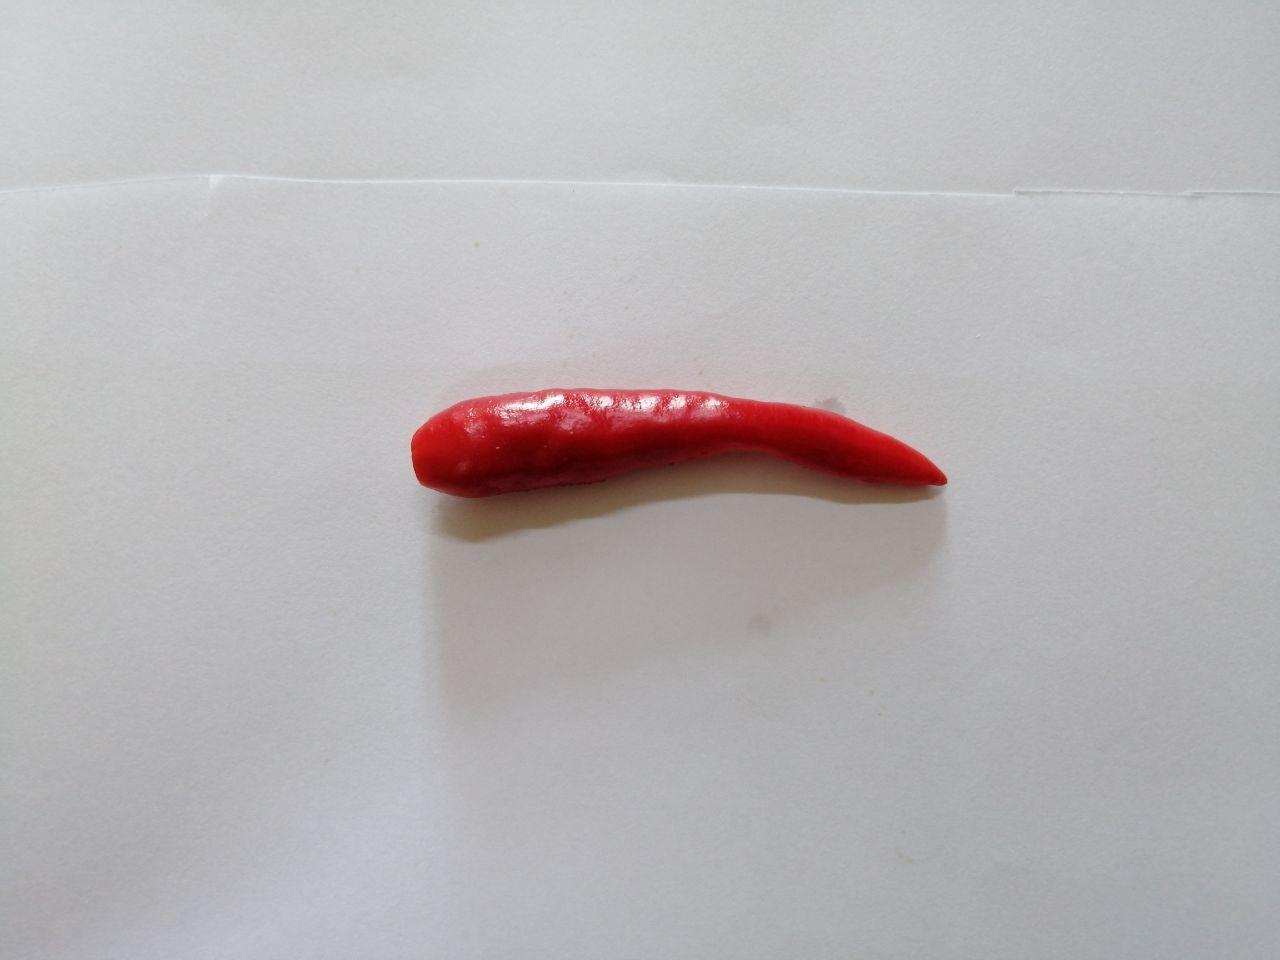lada merah: (390, 350, 1000, 577)
